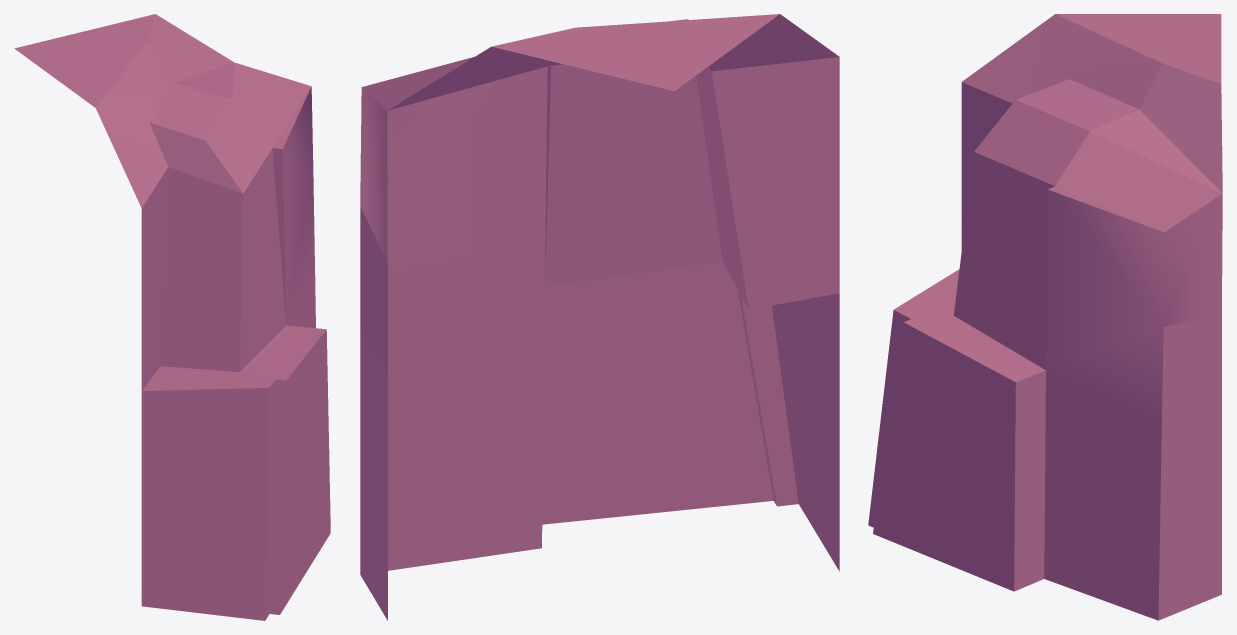
File: Module_Diagonal_Corner_Mesh_02_v01.fbx
3 views of the same model, side by side, from view 1: azimuth 30°, elevation 25°; view 2: azimuth 150°, elevation 25°; view 3: azimuth 270°, elevation 25° (orthographic). The views are drawn at different scales.
Visible parts, largest first — view 1: Module_Diagonal_Corner_Mesh_02_v01; view 2: Module_Diagonal_Corner_Mesh_02_v01; view 3: Module_Diagonal_Corner_Mesh_02_v01.
Boxes of the visible parts, x1,y1,x2,y2 form: Module_Diagonal_Corner_Mesh_02_v01: (14, 14, 330, 620); Module_Diagonal_Corner_Mesh_02_v01: (360, 14, 839, 620); Module_Diagonal_Corner_Mesh_02_v01: (868, 14, 1222, 620).
Bounding box in the file's own units: 248 × 404 × 273.
